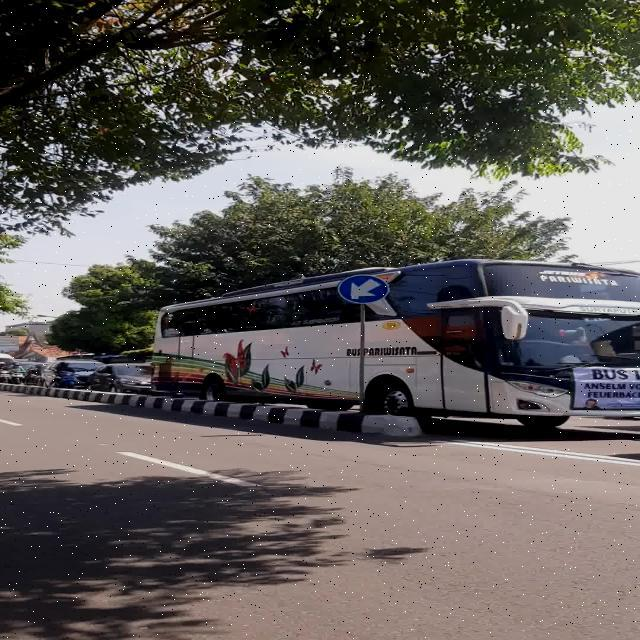Lajur Kiri: (338, 275, 390, 304)
